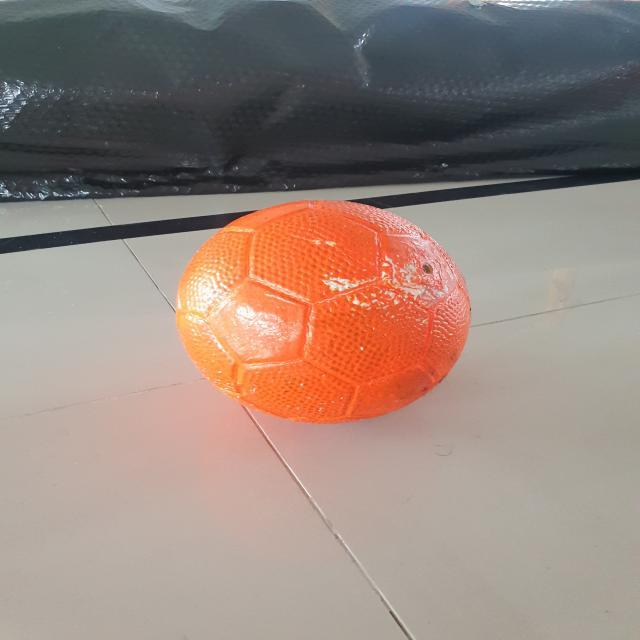bola: (168, 194, 480, 432)
